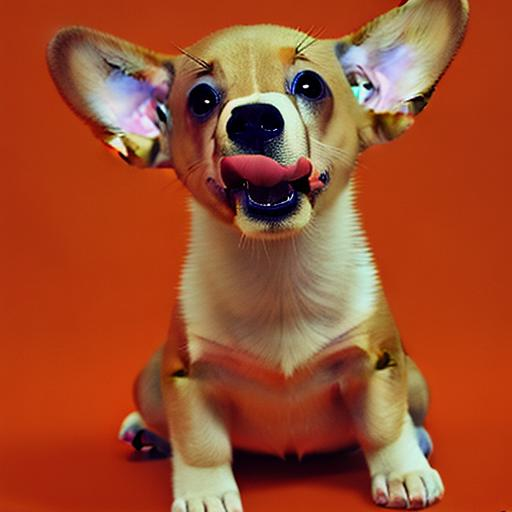eye: (284, 72, 333, 107), (183, 80, 220, 118)
